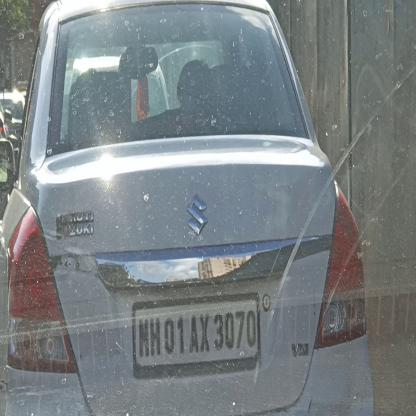license_plate: (135, 299, 257, 365)
